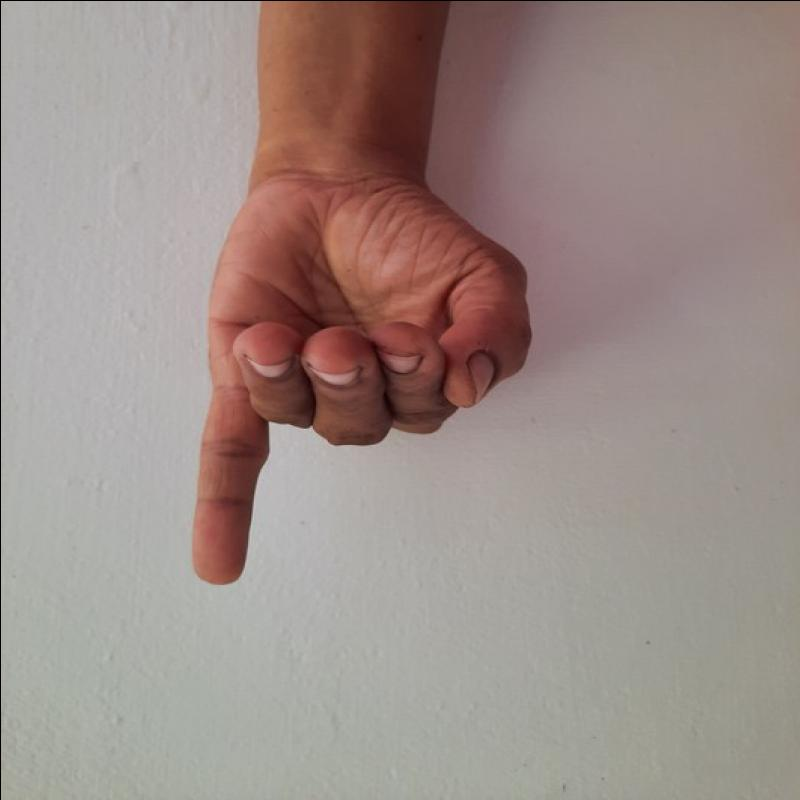Kartharee Mukham: (171, 162, 535, 594)
